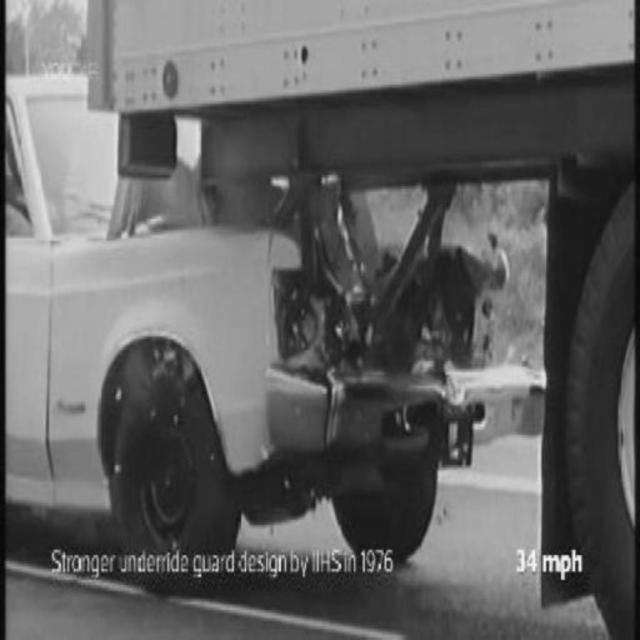accident: (16, 1, 633, 532)
